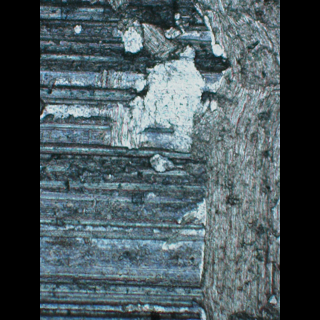d: (191, 0, 280, 318), (75, 0, 205, 183)
